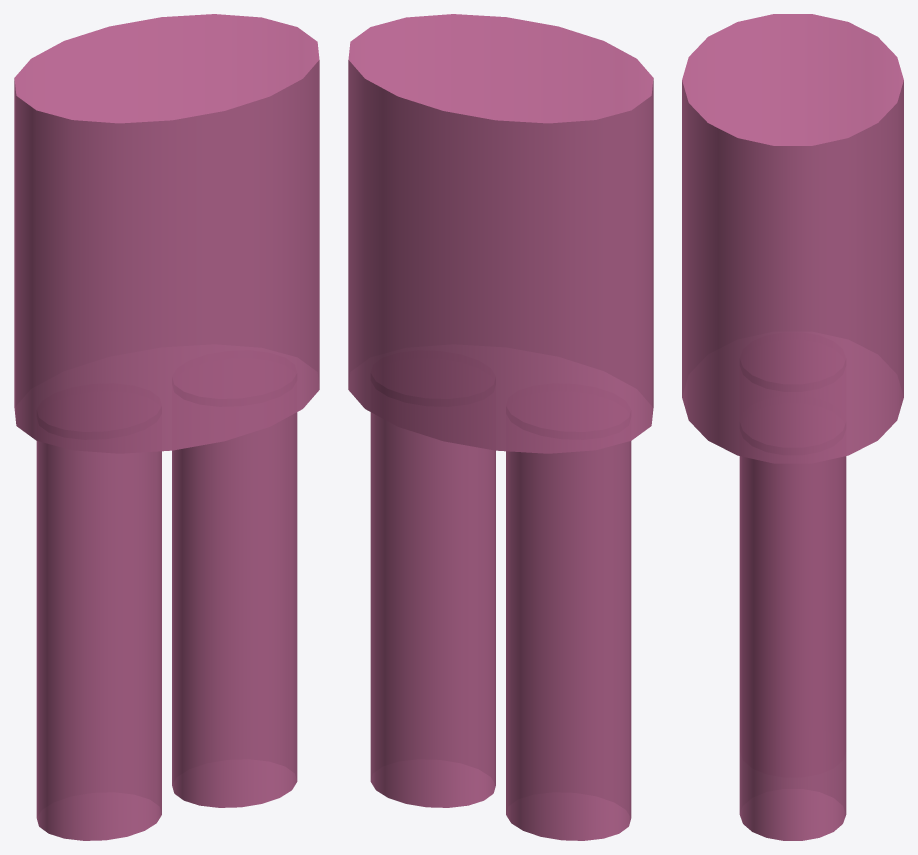
Rendered from VM-DAM-SH40433938.glb.
The picture shows the model from 3 angles, left to right: view 1: azimuth 30°, elevation 25°; view 2: azimuth 150°, elevation 25°; view 3: azimuth 270°, elevation 25°; orthographic projection. The views are drawn at different scales.
Visible parts, largest first — view 1: Bodystocking de Encaje Sexy; view 2: Bodystocking de Encaje Sexy; view 3: Bodystocking de Encaje Sexy.
Part boxes in pixels (<box>): Bodystocking de Encaje Sexy: <box>14,14,319,840</box>; Bodystocking de Encaje Sexy: <box>348,14,653,840</box>; Bodystocking de Encaje Sexy: <box>682,14,903,840</box>.
Size of the model in its own units: 0.3593 by 0.8928 by 0.2554.
